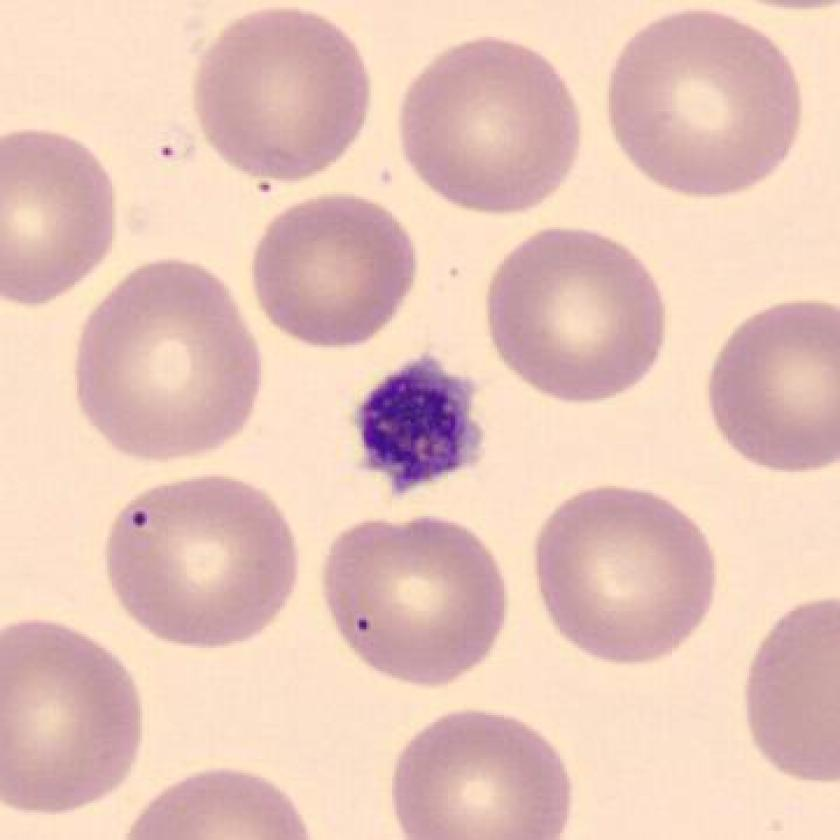platelets: (344, 351, 498, 506)
